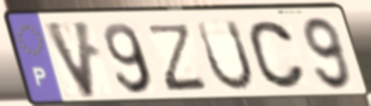9: (102, 21, 155, 97), (302, 14, 353, 92)
C: (246, 19, 309, 91)
U: (193, 17, 257, 94)
V: (40, 19, 100, 102)
Z: (147, 21, 210, 94)
